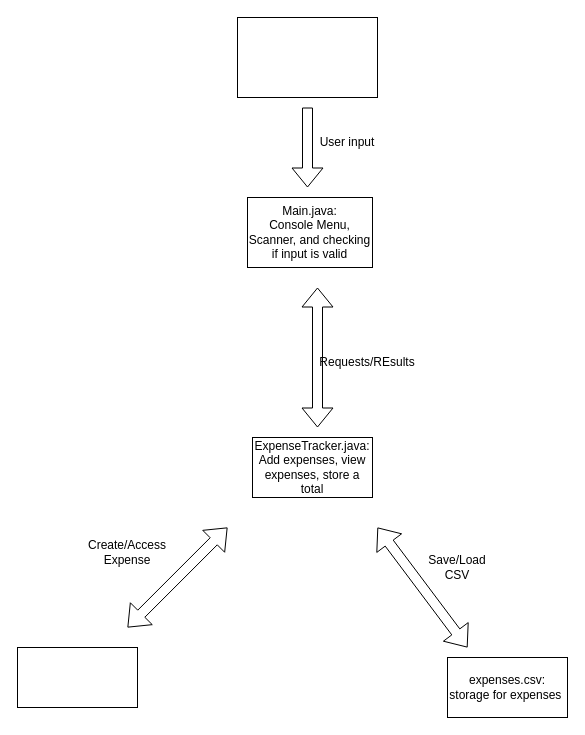
Image size: 585x735. Some labels were removed from this diagram. The shapes that lost their labels are listed below. From the top down, each one's centre as x and y in pixels, then its label:
At (307,57): "START — User launches application Enters Purchases and views the spending".
At (77,677): "Expense.java: Name, category, amount, date".
